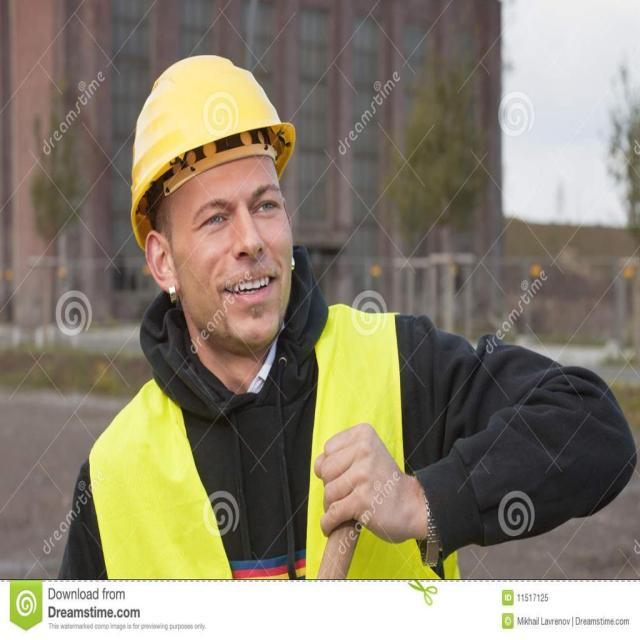Face: (164, 149, 299, 361)
